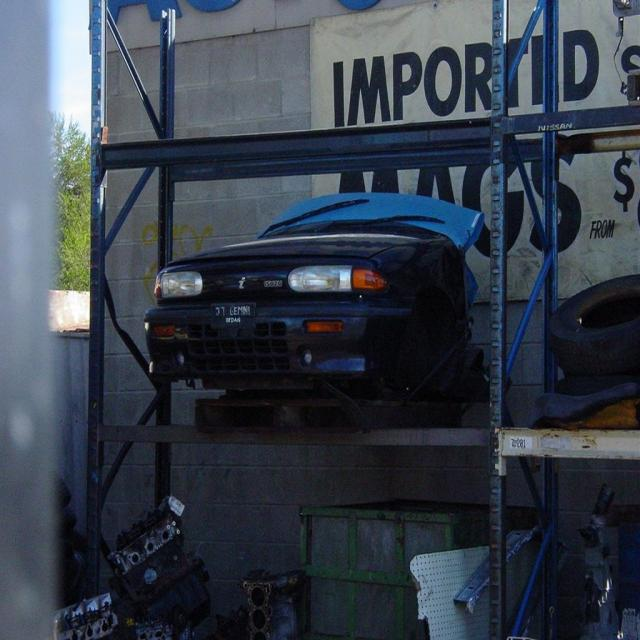other: (143, 191, 480, 413)
